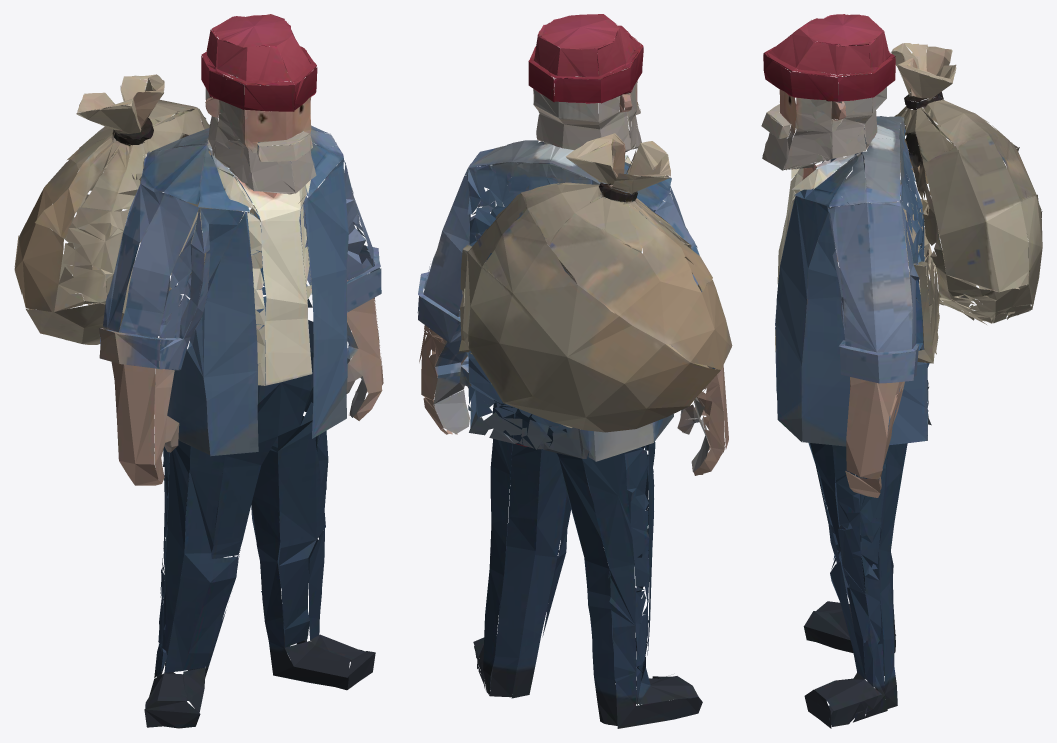
File: habitant.glb
The picture shows the model from 3 angles, left to right: view 1: azimuth 30°, elevation 25°; view 2: azimuth 150°, elevation 25°; view 3: azimuth 270°, elevation 25°; orthographic projection. The views are drawn at different scales.
Parts seen in each view (by area): view 1: world; view 2: world; view 3: world.
Part boxes in pixels (x1,y1,x2,y2): world: [14, 14, 383, 728]; world: [417, 14, 732, 728]; world: [761, 14, 1042, 728].
Bounding box in the file's own units: 0.5158 × 1 × 0.3919.
Materials: 1 (1 with a texture image).
